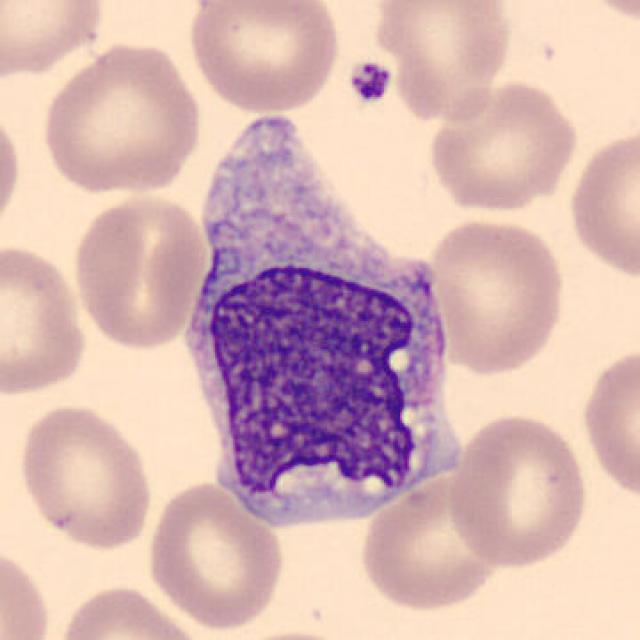Monocyte: (178, 92, 457, 543)
Platelets: (345, 56, 395, 108)
RBC: (36, 39, 206, 197), (442, 409, 594, 571), (419, 214, 569, 378), (70, 190, 212, 352), (142, 478, 288, 631), (356, 468, 506, 616), (15, 400, 156, 552), (425, 78, 581, 215), (183, 0, 345, 116), (370, 0, 516, 125), (0, 238, 91, 400), (564, 123, 638, 284), (578, 340, 638, 506), (53, 582, 208, 640), (0, 0, 108, 79), (0, 543, 55, 640), (0, 98, 25, 242), (219, 626, 368, 640), (576, 0, 640, 25)
